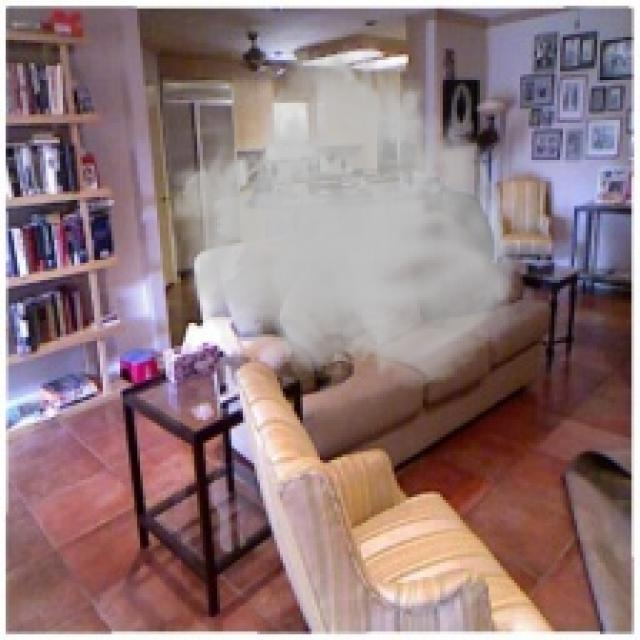smoke: (166, 29, 523, 392)
